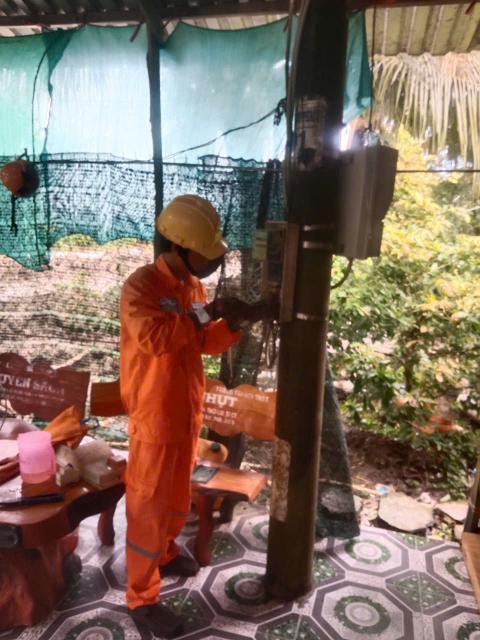gloves: (183, 294, 249, 330), (237, 296, 278, 332)
helmet: (150, 189, 244, 263)
shoes: (112, 595, 196, 639), (143, 552, 208, 586)
